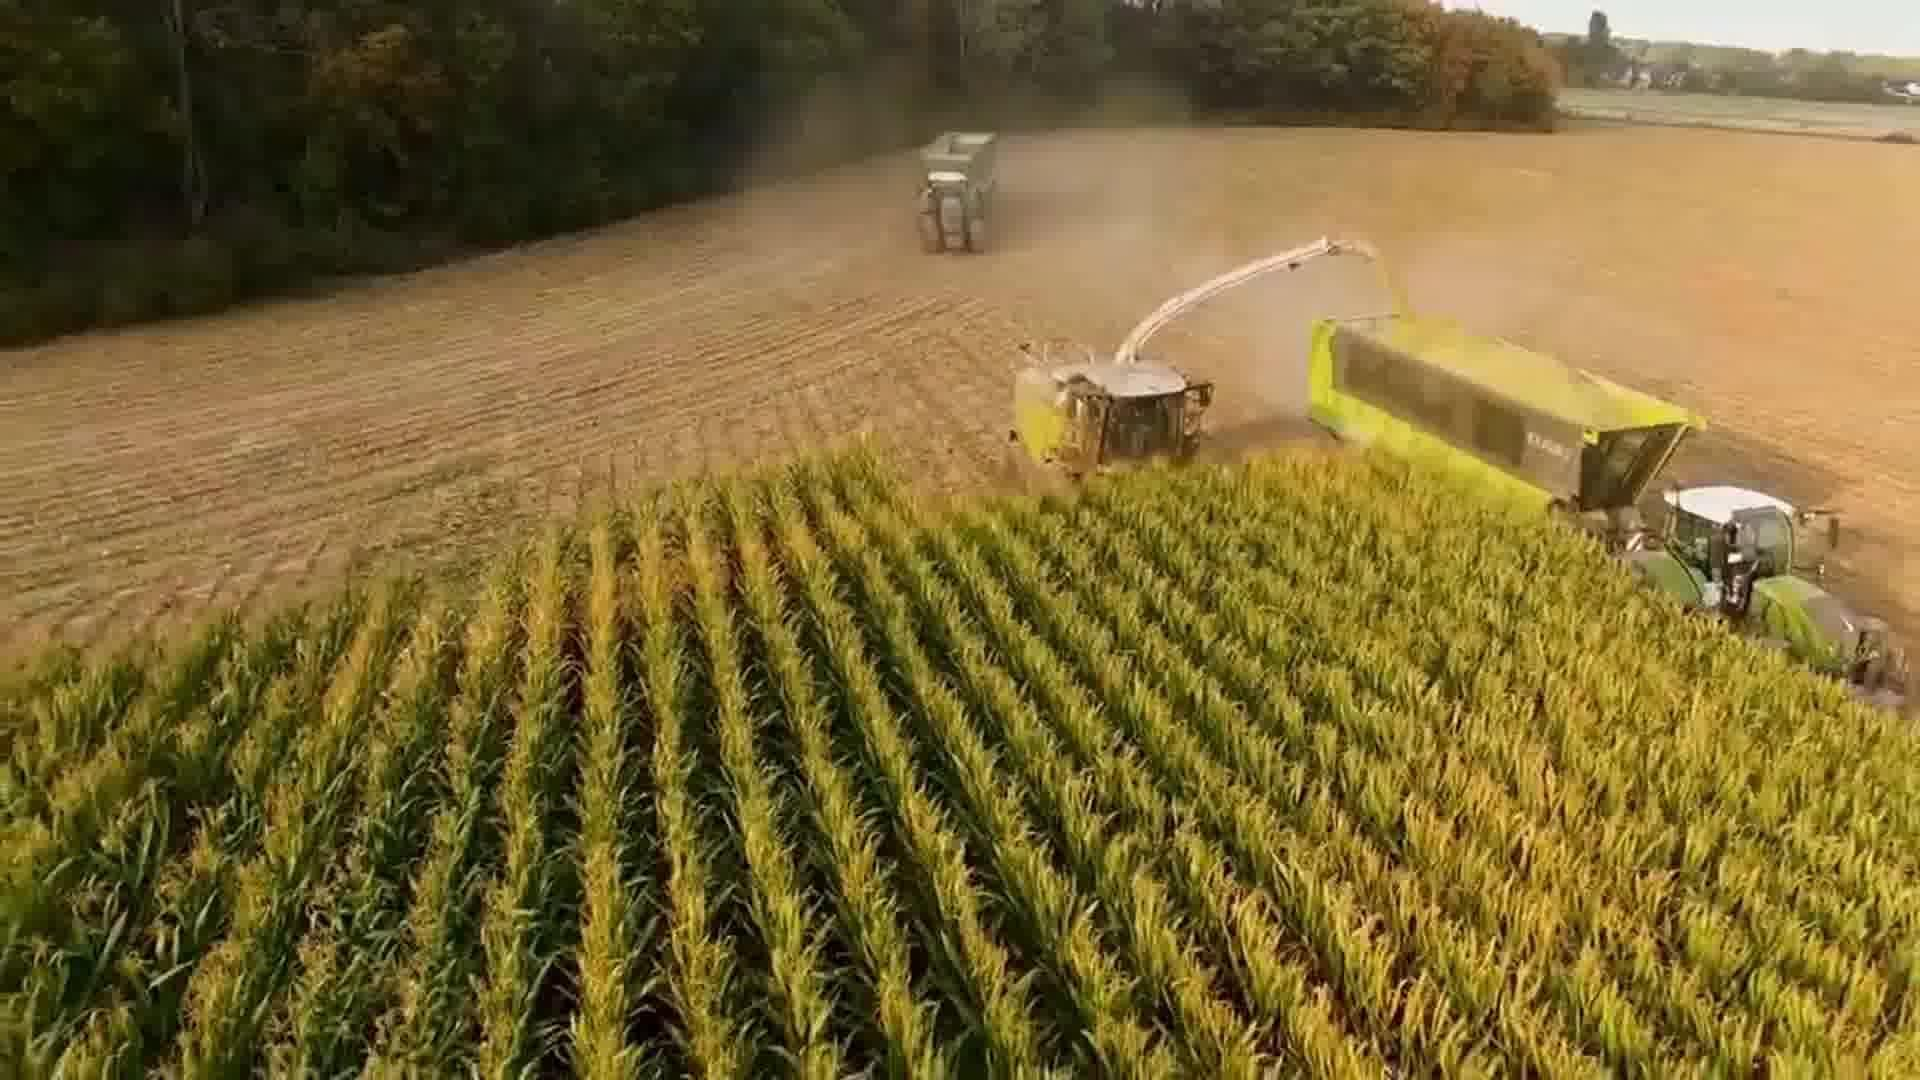combine harvester: (997, 229, 1375, 520)
tractor: (1615, 476, 1905, 720), (910, 157, 996, 261)
trailer: (1296, 290, 1710, 582), (911, 125, 1000, 214)
